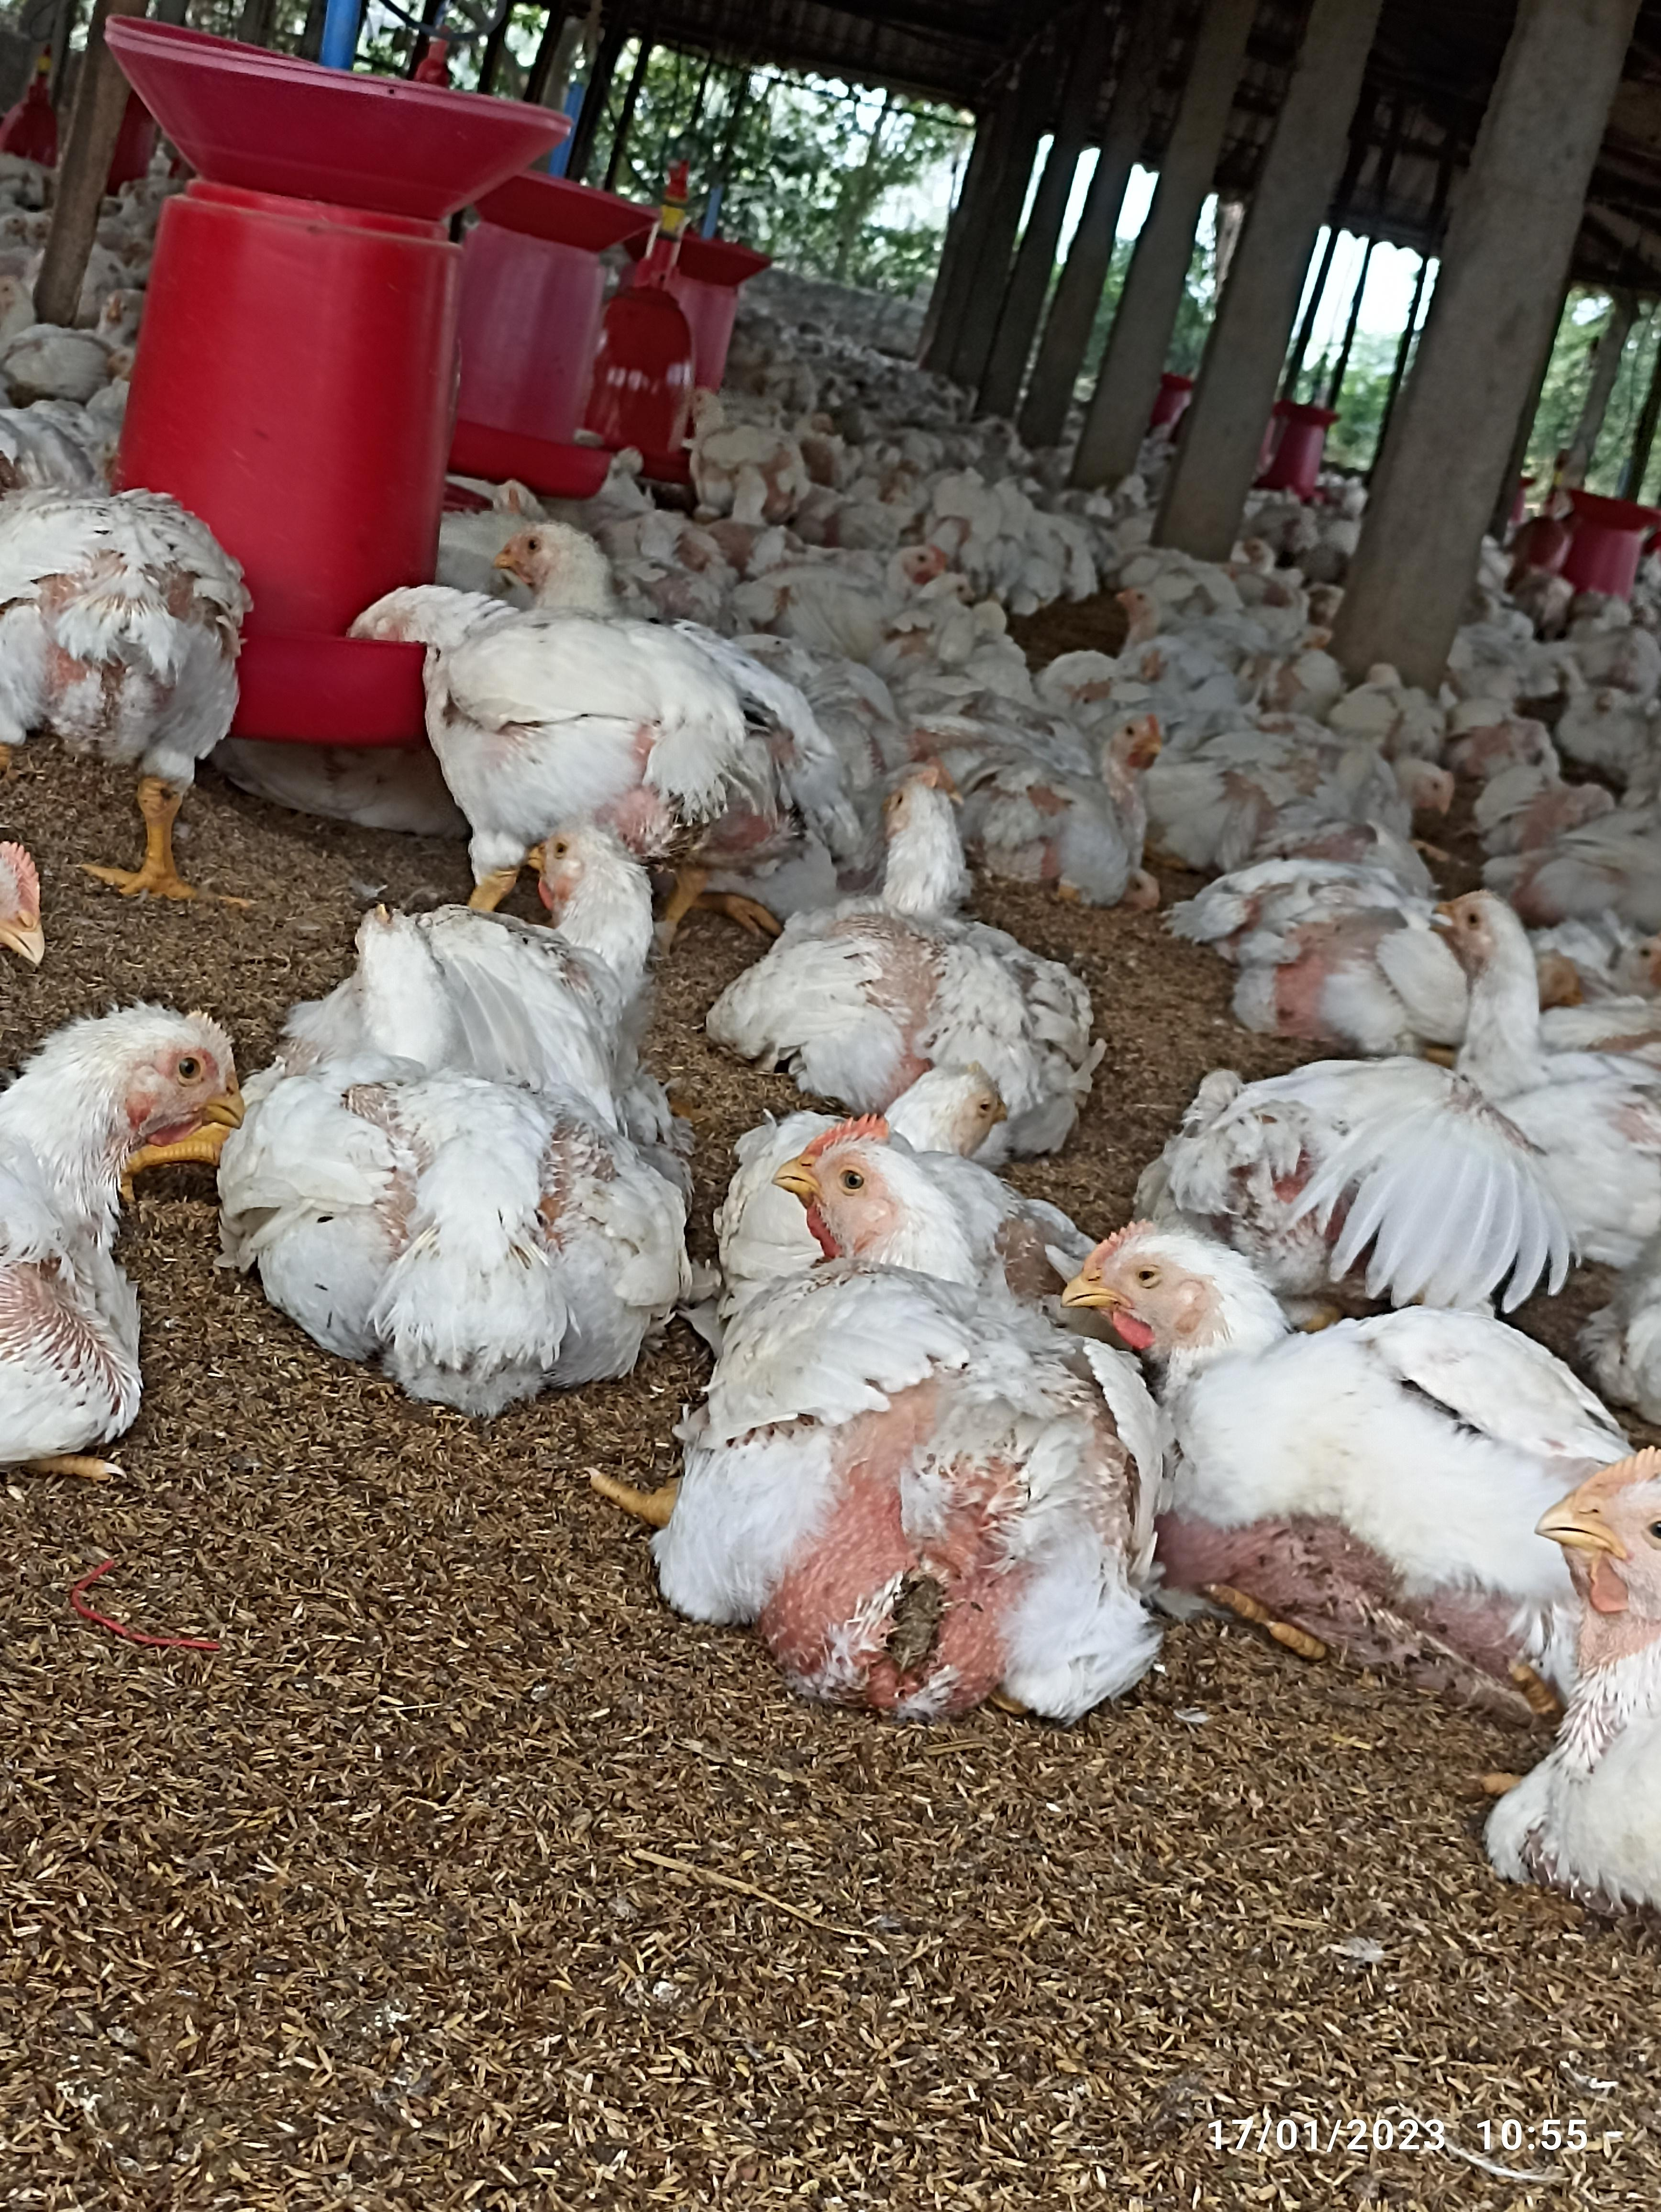Pollos: (703, 1120, 1104, 1696), (298, 816, 684, 1376), (1078, 1214, 1513, 1598), (0, 994, 269, 1450), (414, 520, 775, 802), (764, 766, 1090, 1062), (1432, 890, 1661, 1183), (1209, 853, 1432, 1034), (993, 701, 1172, 890)
